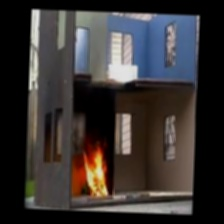fire: (80, 139, 111, 199)
